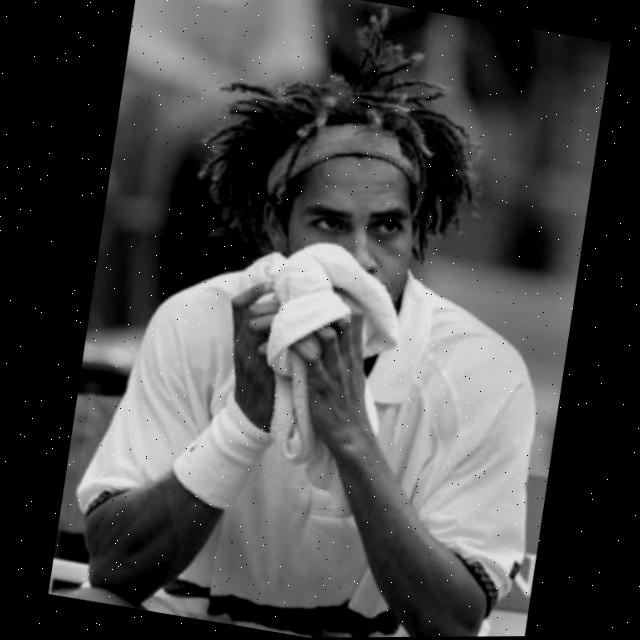face: (212, 70, 459, 360)
